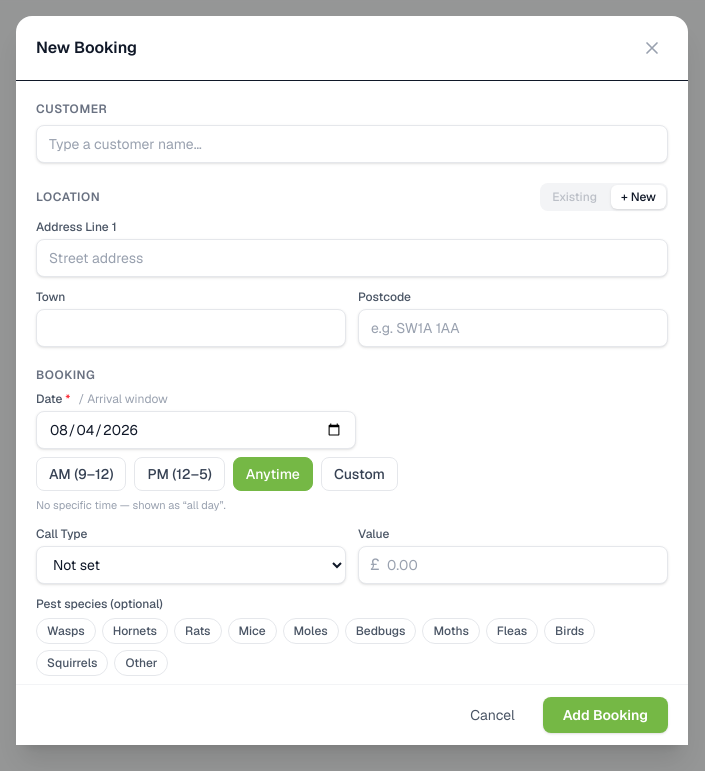
Test: BookingModal — create-mode customer combobox › typing an existing name → match surfaces; picking it uses the EXISTING customer
Type "Acme" into the field with placeholder "Type a customer name…" at (352, 144), box [36,125,668,163]
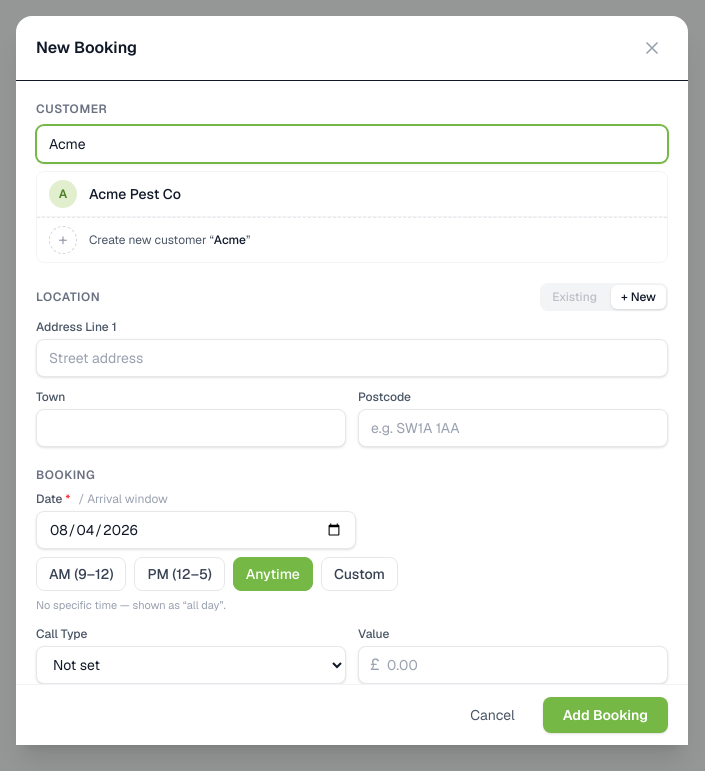
Note: The existing customer surfaces as a pickable match (debounced Dexie read).
Click the button "A Acme Pest Co" at (135, 194), box [37,172,667,217]
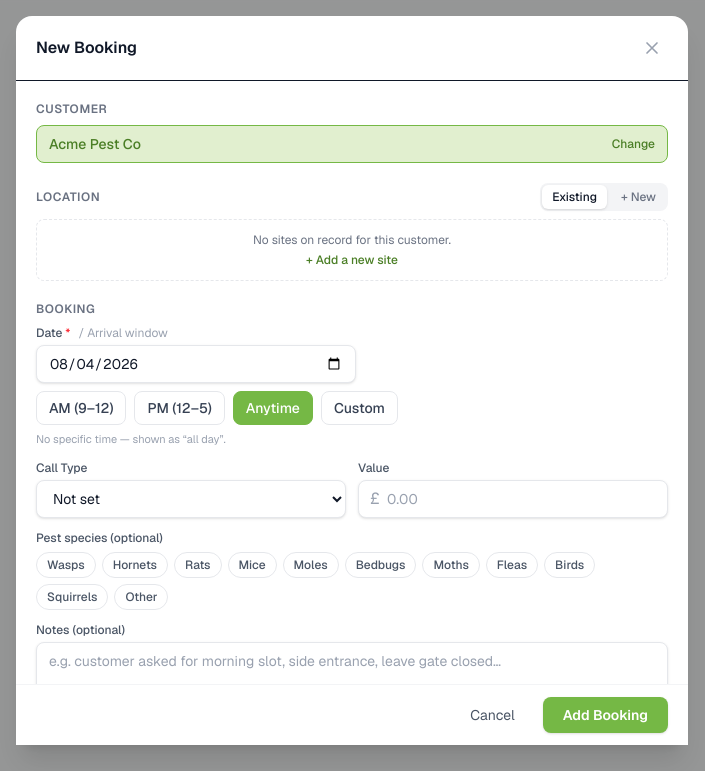
Result: the button "Change" is shown at [612,136,655,152]
